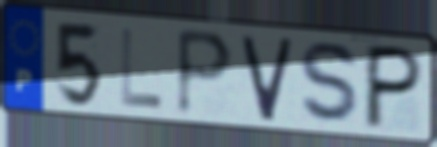5: (52, 20, 105, 110)
L: (118, 25, 166, 112)
P: (360, 41, 427, 132), (174, 24, 237, 120)
S: (297, 38, 365, 129)
V: (238, 33, 298, 124)
